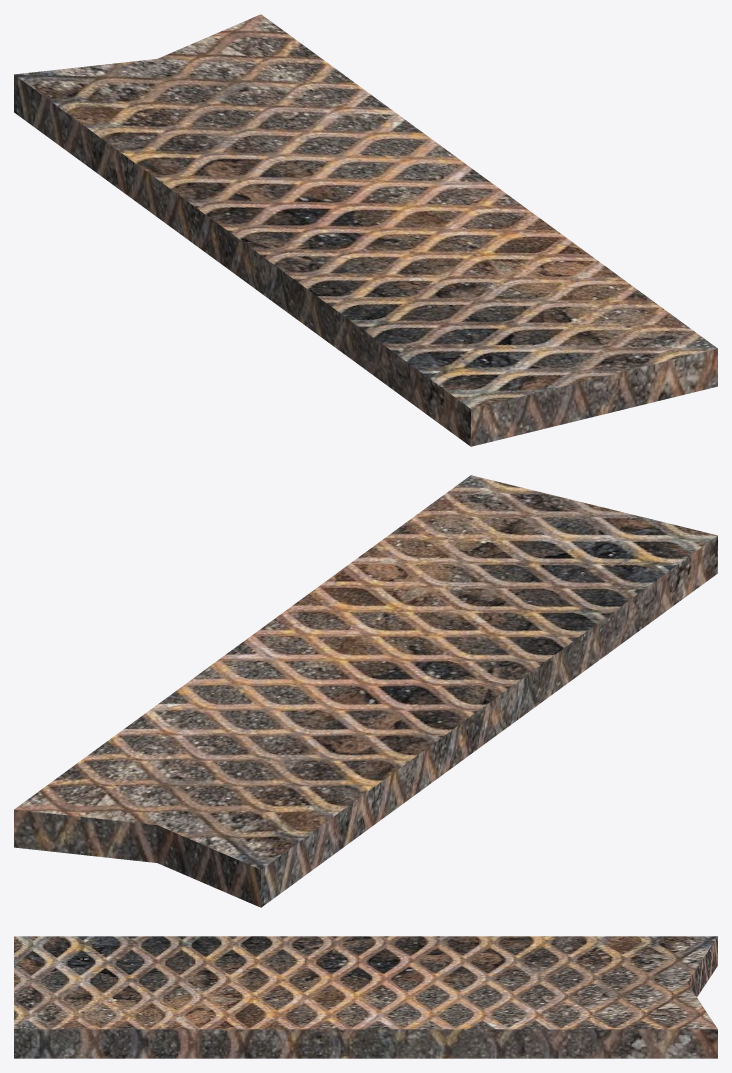
File: ledge04.obj
3 views of the same model, one above another, from view 1: azimuth 30°, elevation 25°; view 2: azimuth 150°, elevation 25°; view 3: azimuth 270°, elevation 25° (orthographic). The views are drawn at different scales.
Visible parts, largest first — view 1: Plane; view 2: Plane; view 3: Plane.
Part boxes in pixels (x1=…): Plane: x1=14, y1=14, x2=717, y2=446; Plane: x1=14, y1=475, x2=717, y2=907; Plane: x1=14, y1=936, x2=717, y2=1058.
Bounding box in the file's own units: 2.91 × 0.4268 × 9.31.
